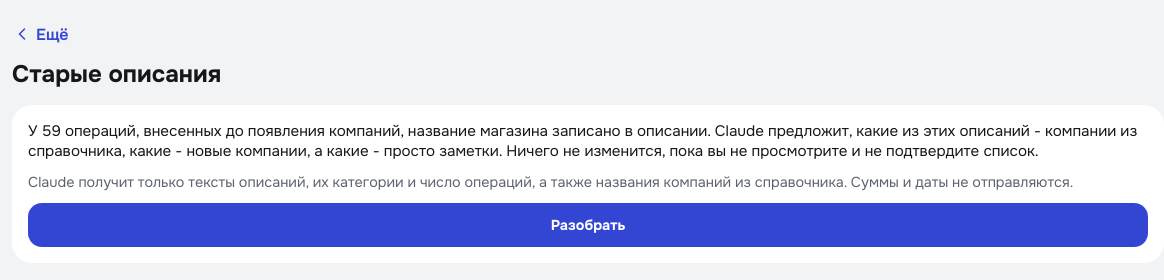
Test: CleanupScreen: nothing started › starts a run and blocks a second tap while it is in flight
This screenshot has width=1164, height=280.
Click the button "Разобрать": (588, 225) [28,203,1148,247]
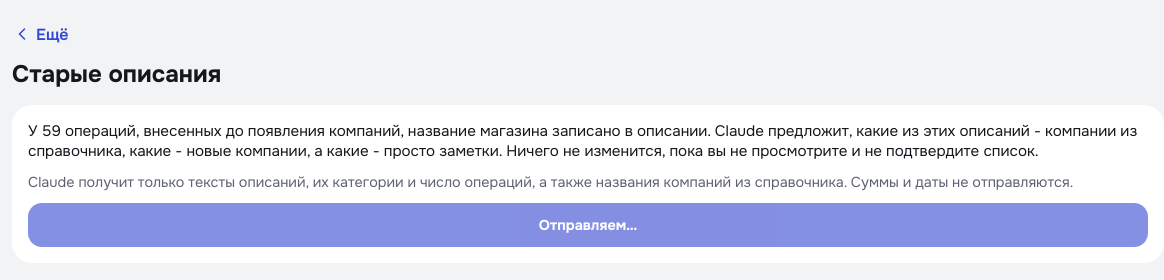
Expected: the button "Отправляем…" is disabled
Click the button "Отправляем…": (588, 225) [28,203,1148,247]
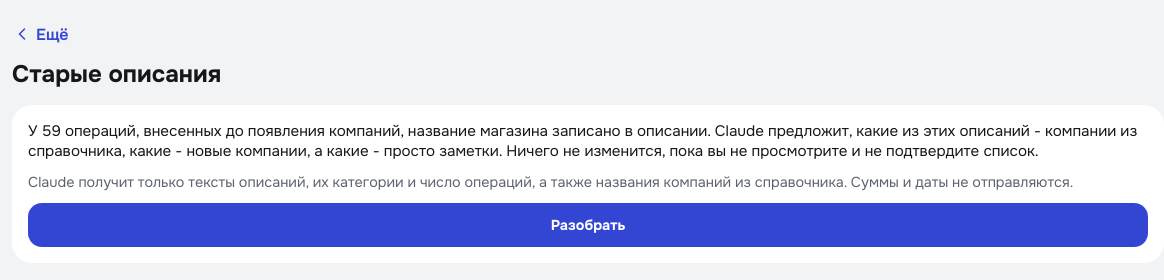
Expected: the button "Разобрать" is enabled, [28,203,1148,247]
